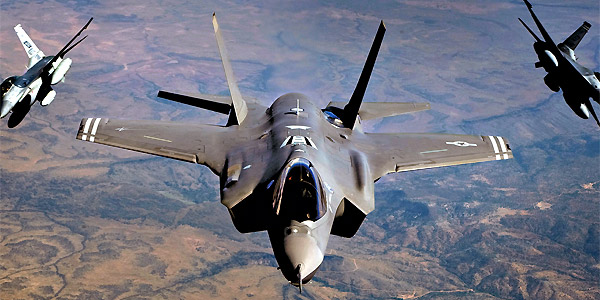Aeronef_militaire: (71, 8, 521, 292), (1, 1, 102, 133), (509, 1, 600, 135)
